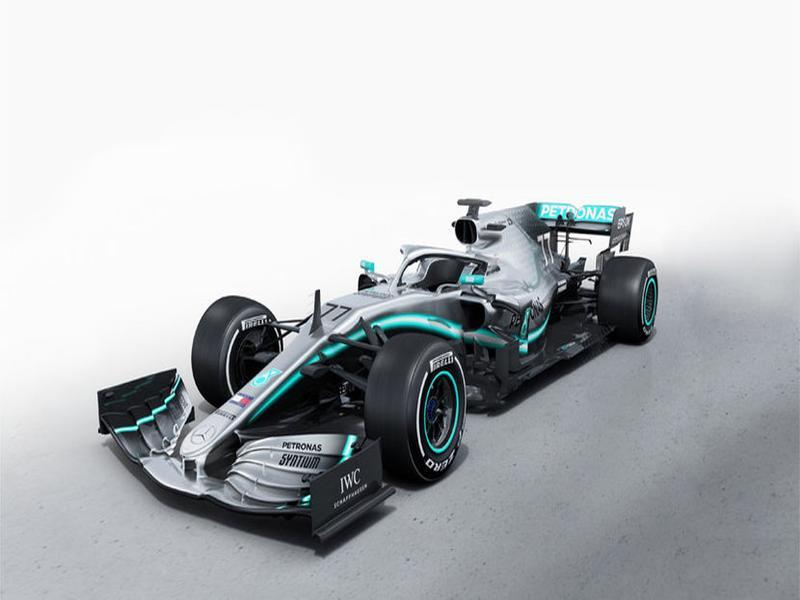f1: (86, 163, 702, 529)
